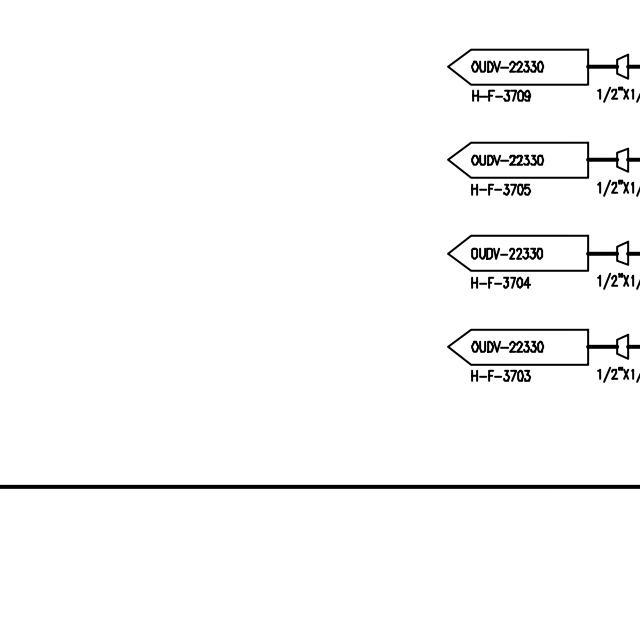SP: (612, 329, 632, 362), (613, 240, 632, 266), (615, 143, 630, 173), (616, 51, 630, 82)
